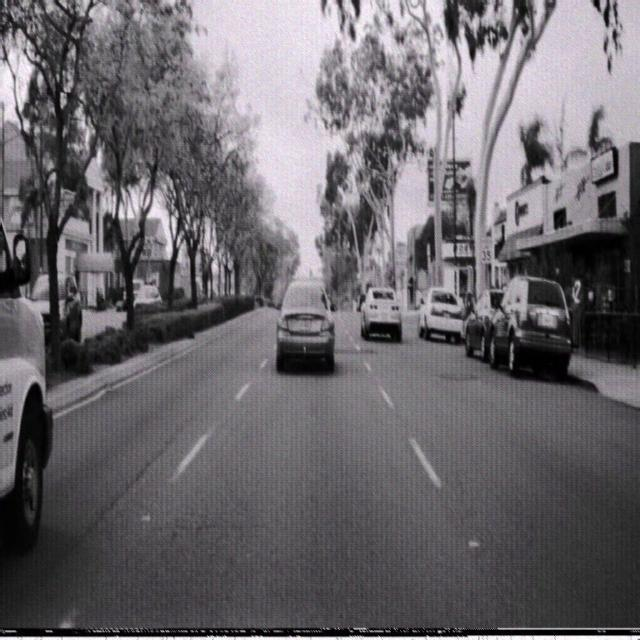speedLimit35: (479, 235, 492, 262)
